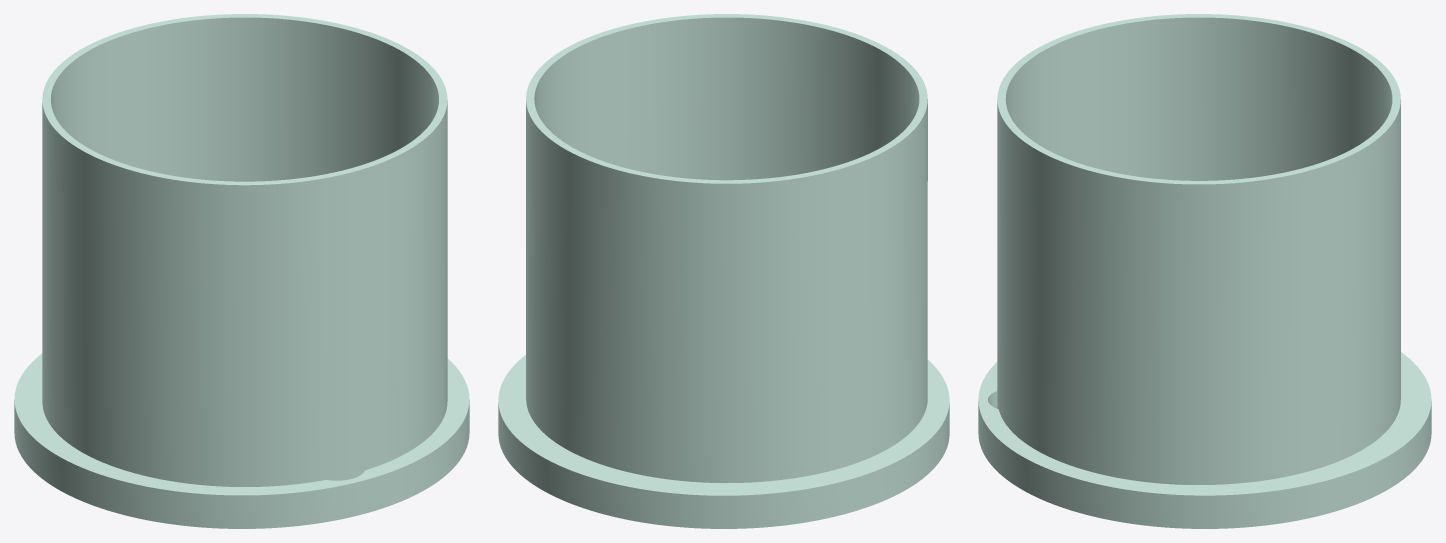
3 renders of one model, left to right at view 1: azimuth 30°, elevation 25°; view 2: azimuth 150°, elevation 25°; view 3: azimuth 270°, elevation 25°, orthographic.
Visible parts, largest first — view 1: Renderer Node; view 2: Renderer Node; view 3: Renderer Node.
Part boxes in pixels (left/top/right/bottom): Renderer Node: left=14, top=14, right=469, bottom=528; Renderer Node: left=498, top=14, right=949, bottom=528; Renderer Node: left=978, top=14, right=1431, bottom=528.
Bounding box in the file's own units: 0.5761 × 0.4688 × 0.5763.
